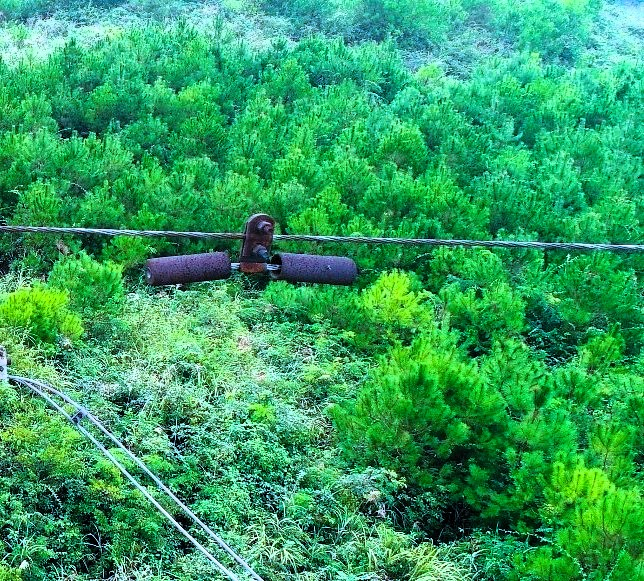Shockproof hammer: (133, 208, 370, 292)
